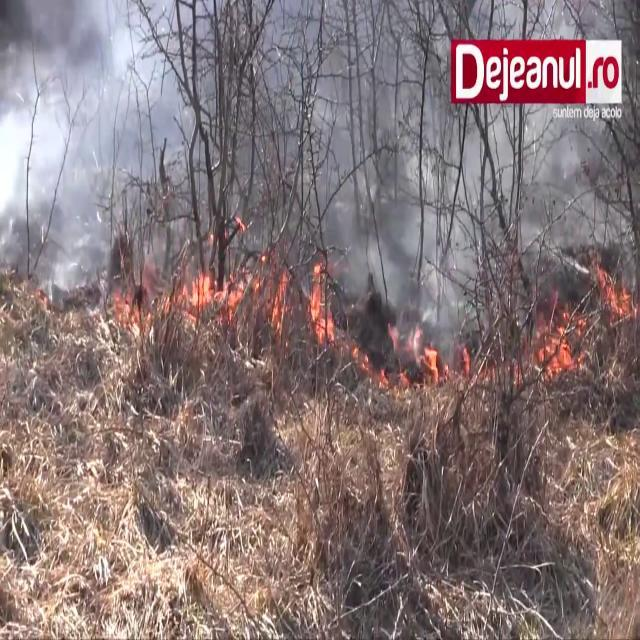Fire: (532, 294, 580, 380), (180, 256, 240, 323), (305, 254, 337, 350), (407, 318, 445, 382)
Smoke: (0, 0, 199, 292), (302, 2, 456, 312)
